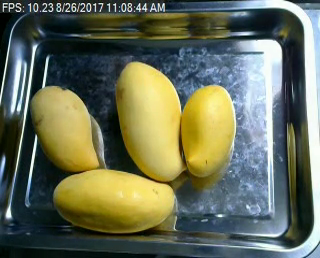Mango: (113, 60, 192, 181), (51, 169, 178, 235), (24, 82, 105, 168), (181, 82, 244, 177)
